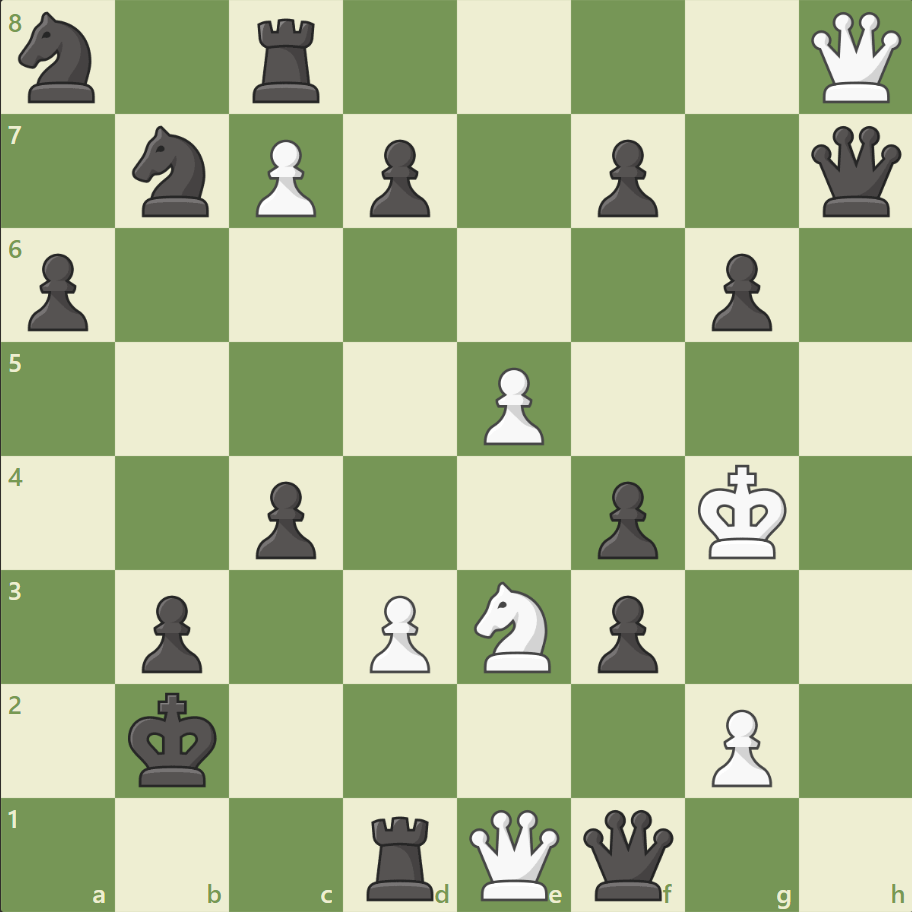K: (692, 458, 792, 566)
N: (465, 575, 562, 677)
P: (247, 132, 322, 223), (474, 359, 549, 450), (701, 700, 776, 791), (361, 586, 435, 677)
Q: (805, 9, 904, 108), (464, 804, 563, 903)
k: (124, 685, 224, 793)
n: (124, 121, 222, 223), (11, 7, 108, 110)
p: (20, 246, 95, 337), (701, 246, 776, 337), (247, 473, 322, 564), (133, 586, 208, 677), (361, 132, 435, 223), (588, 132, 662, 223), (588, 473, 662, 564), (588, 586, 662, 677)
q: (805, 122, 904, 222), (578, 804, 677, 903)
r: (246, 12, 329, 109), (360, 806, 442, 904)
